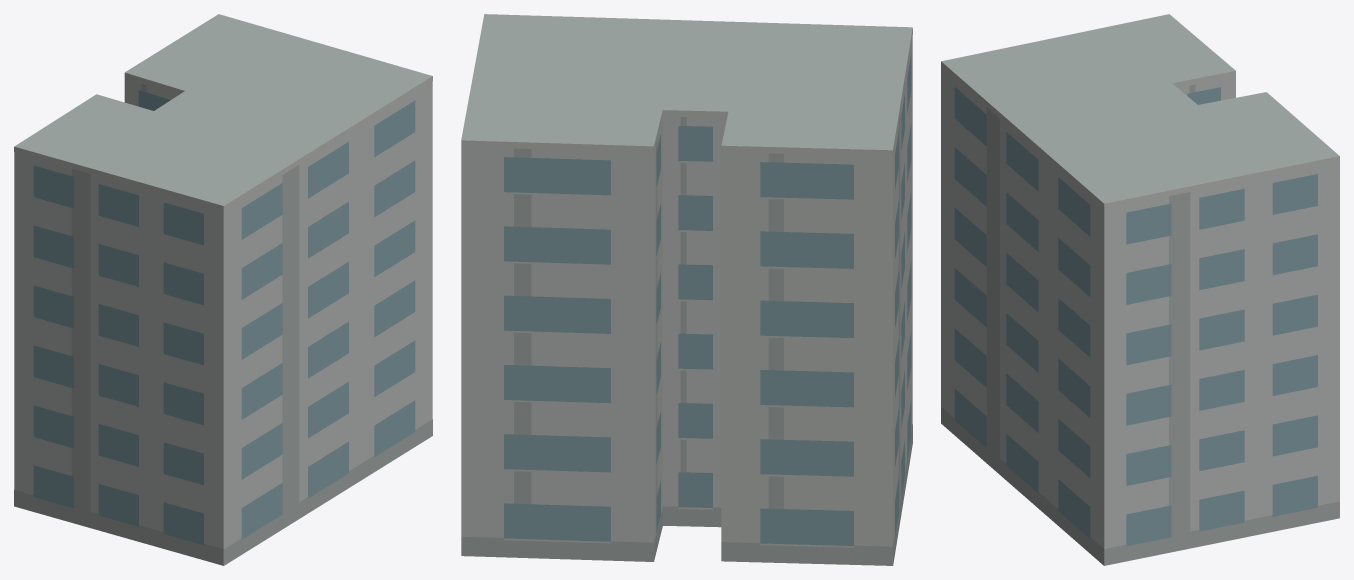
The model's file is survey-upis-32891466.glb.
3 views of the same model, side by side, from view 1: azimuth 30°, elevation 25°; view 2: azimuth 150°, elevation 25°; view 3: azimuth 270°, elevation 25° (orthographic). The views are drawn at different scales.
Visible parts, largest first — view 1: survey-upis-32891466.tmp; view 2: survey-upis-32891466.tmp; view 3: survey-upis-32891466.tmp.
Part boxes in pixels (left/top/right/bottom): survey-upis-32891466.tmp: left=14, top=14, right=432, bottom=565; survey-upis-32891466.tmp: left=461, top=14, right=912, bottom=565; survey-upis-32891466.tmp: left=941, top=14, right=1339, bottom=565.
Bounding box in the file's own units: 17.76 × 15.8 × 15.77.
